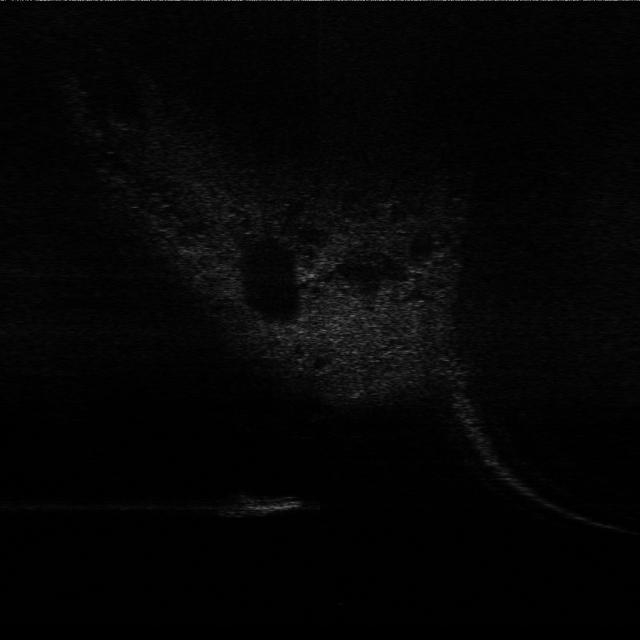square cage: (228, 484, 308, 521)
